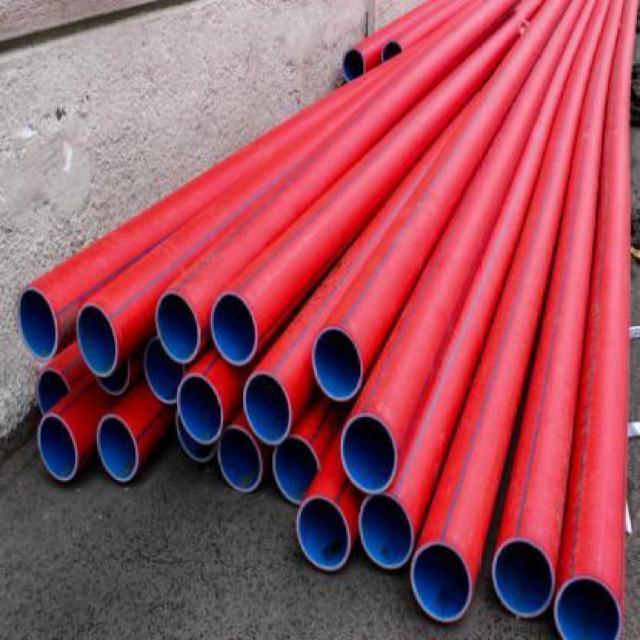pipe: (411, 541, 473, 623), (492, 539, 555, 618), (341, 416, 397, 493), (555, 576, 623, 639), (359, 493, 413, 570), (297, 497, 350, 571), (313, 326, 361, 402), (243, 373, 291, 446), (210, 293, 257, 367), (176, 374, 222, 444), (272, 437, 319, 505), (16, 286, 58, 361), (156, 291, 199, 364), (219, 427, 264, 494), (76, 304, 116, 378), (96, 415, 139, 483), (37, 414, 79, 482), (145, 339, 187, 404), (36, 367, 69, 415), (343, 50, 366, 82), (381, 37, 403, 64)
